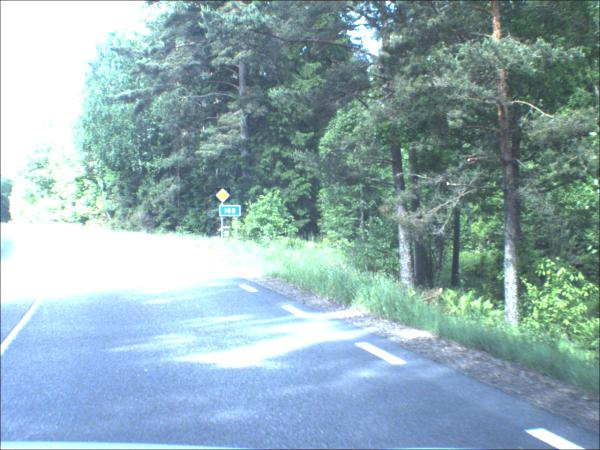PRIORITY_ROAD: (216, 189, 232, 205)
